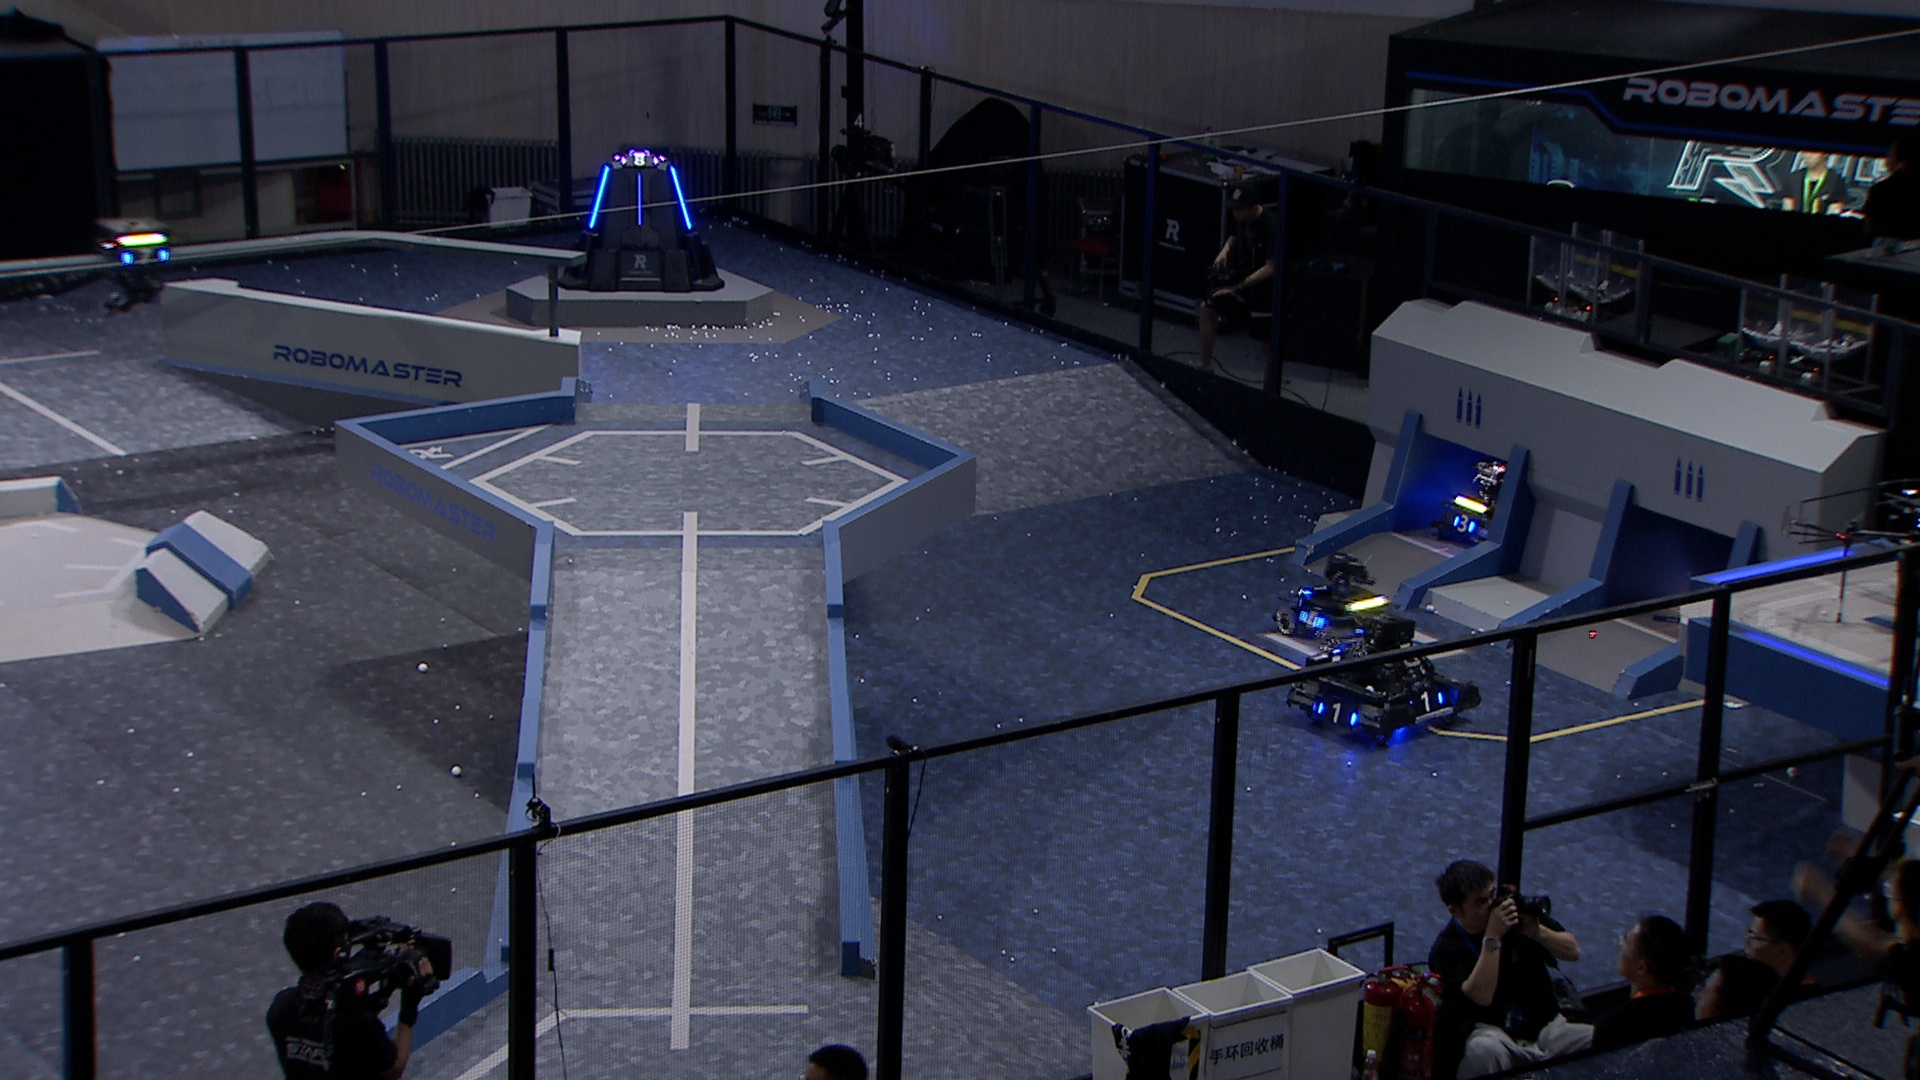armor: (583, 164, 612, 232), (669, 167, 698, 232), (1315, 700, 1358, 728), (119, 247, 169, 270), (1410, 692, 1447, 713), (1449, 512, 1477, 534), (1299, 611, 1325, 629), (636, 174, 644, 229)
base: (549, 142, 728, 291)
car: (1286, 613, 1482, 745), (1273, 551, 1395, 654), (1437, 463, 1534, 546)
ignore: (618, 152, 665, 169)
watcher: (91, 211, 174, 320)
